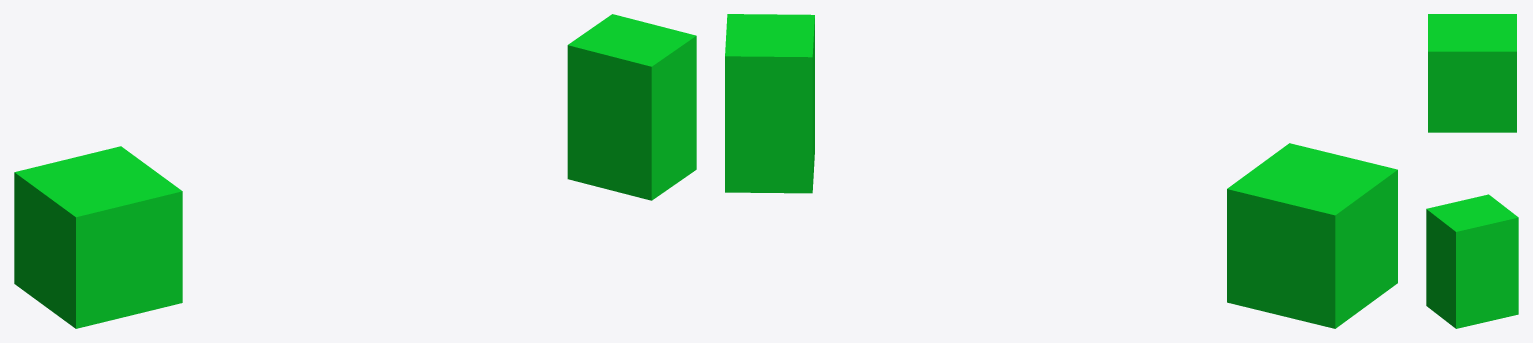
The model's file is InvalidMaterial.gltf.
3 views of the same model, side by side, from view 1: azimuth 30°, elevation 25°; view 2: azimuth 150°, elevation 25°; view 3: azimuth 270°, elevation 25° (orthographic). The views are drawn at different scales.
Size of the model in its own units: 6 by 1.2 by 1.04.
Materials: 1 (1 with a texture image).
